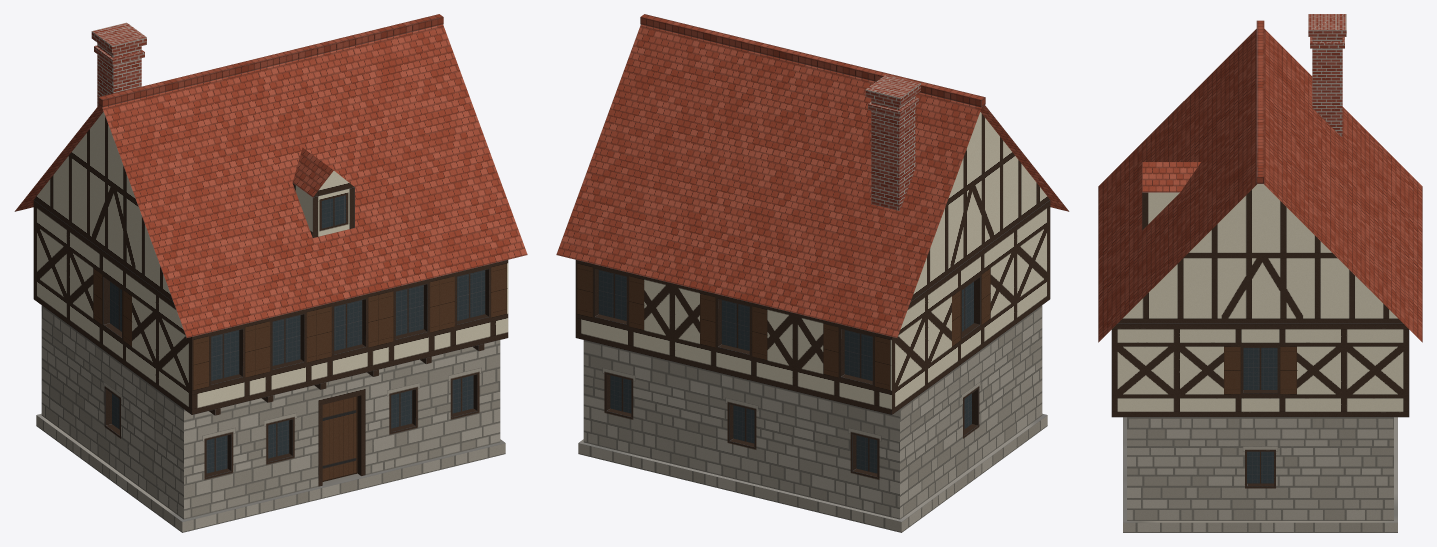
The model's file is timberhouse.glb.
The picture shows the model from 3 angles, left to right: view 1: azimuth 30°, elevation 25°; view 2: azimuth 150°, elevation 25°; view 3: azimuth 270°, elevation 25°; orthographic projection. The views are drawn at different scales.
Visible parts, largest first — view 1: TimberHouse; view 2: TimberHouse; view 3: TimberHouse.
Part boxes in pixels (<box>): TimberHouse: <box>14,14,527,532</box>; TimberHouse: <box>556,14,1069,532</box>; TimberHouse: <box>1098,14,1422,532</box>.
Size of the model in its own units: 9.7 by 11.09 by 8.5.
1 material, 1 textured.
